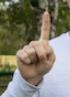up: (16, 10, 60, 80)
